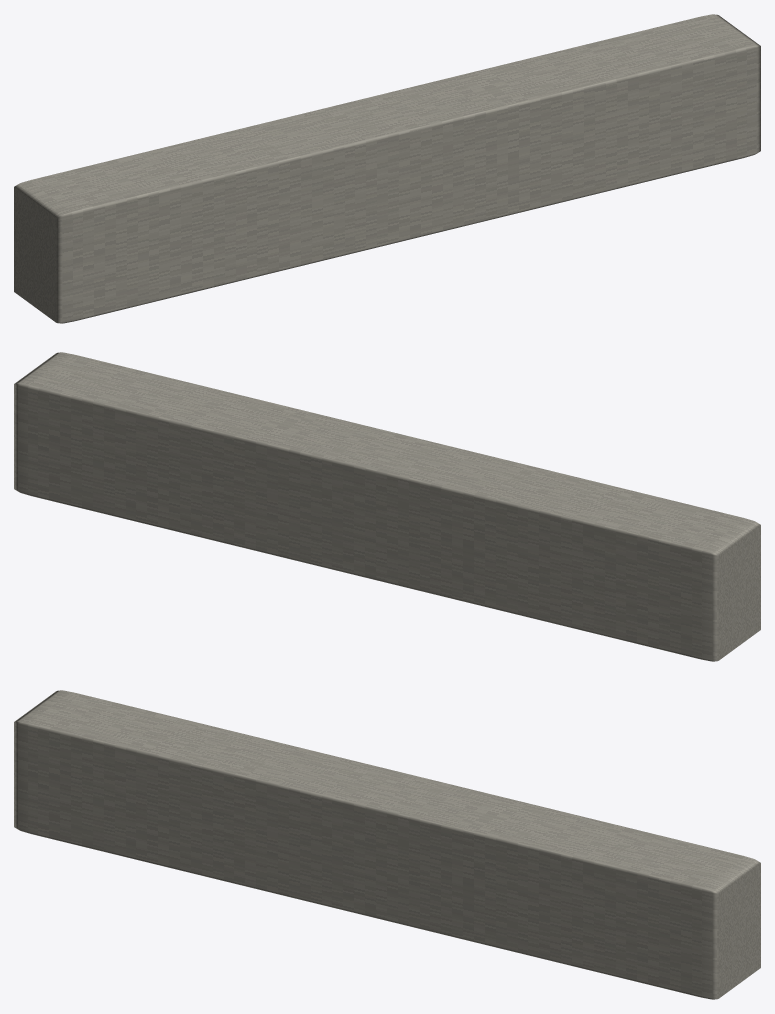
The model's file is wall-base.glb.
3 renders of one model, top to bottom at view 1: azimuth 30°, elevation 25°; view 2: azimuth 150°, elevation 25°; view 3: azimuth 330°, elevation 25°, orthographic.
Parts seen in each view (by area): view 1: panel; view 2: panel; view 3: panel.
Part boxes in pixels (x1,y1,x2,y2): panel: (14,14,760,323); panel: (14,352,760,661); panel: (14,690,760,999).
Bounding box in the file's own units: 2 × 0.3 × 0.22.
Materials: 1 (1 with a texture image).
